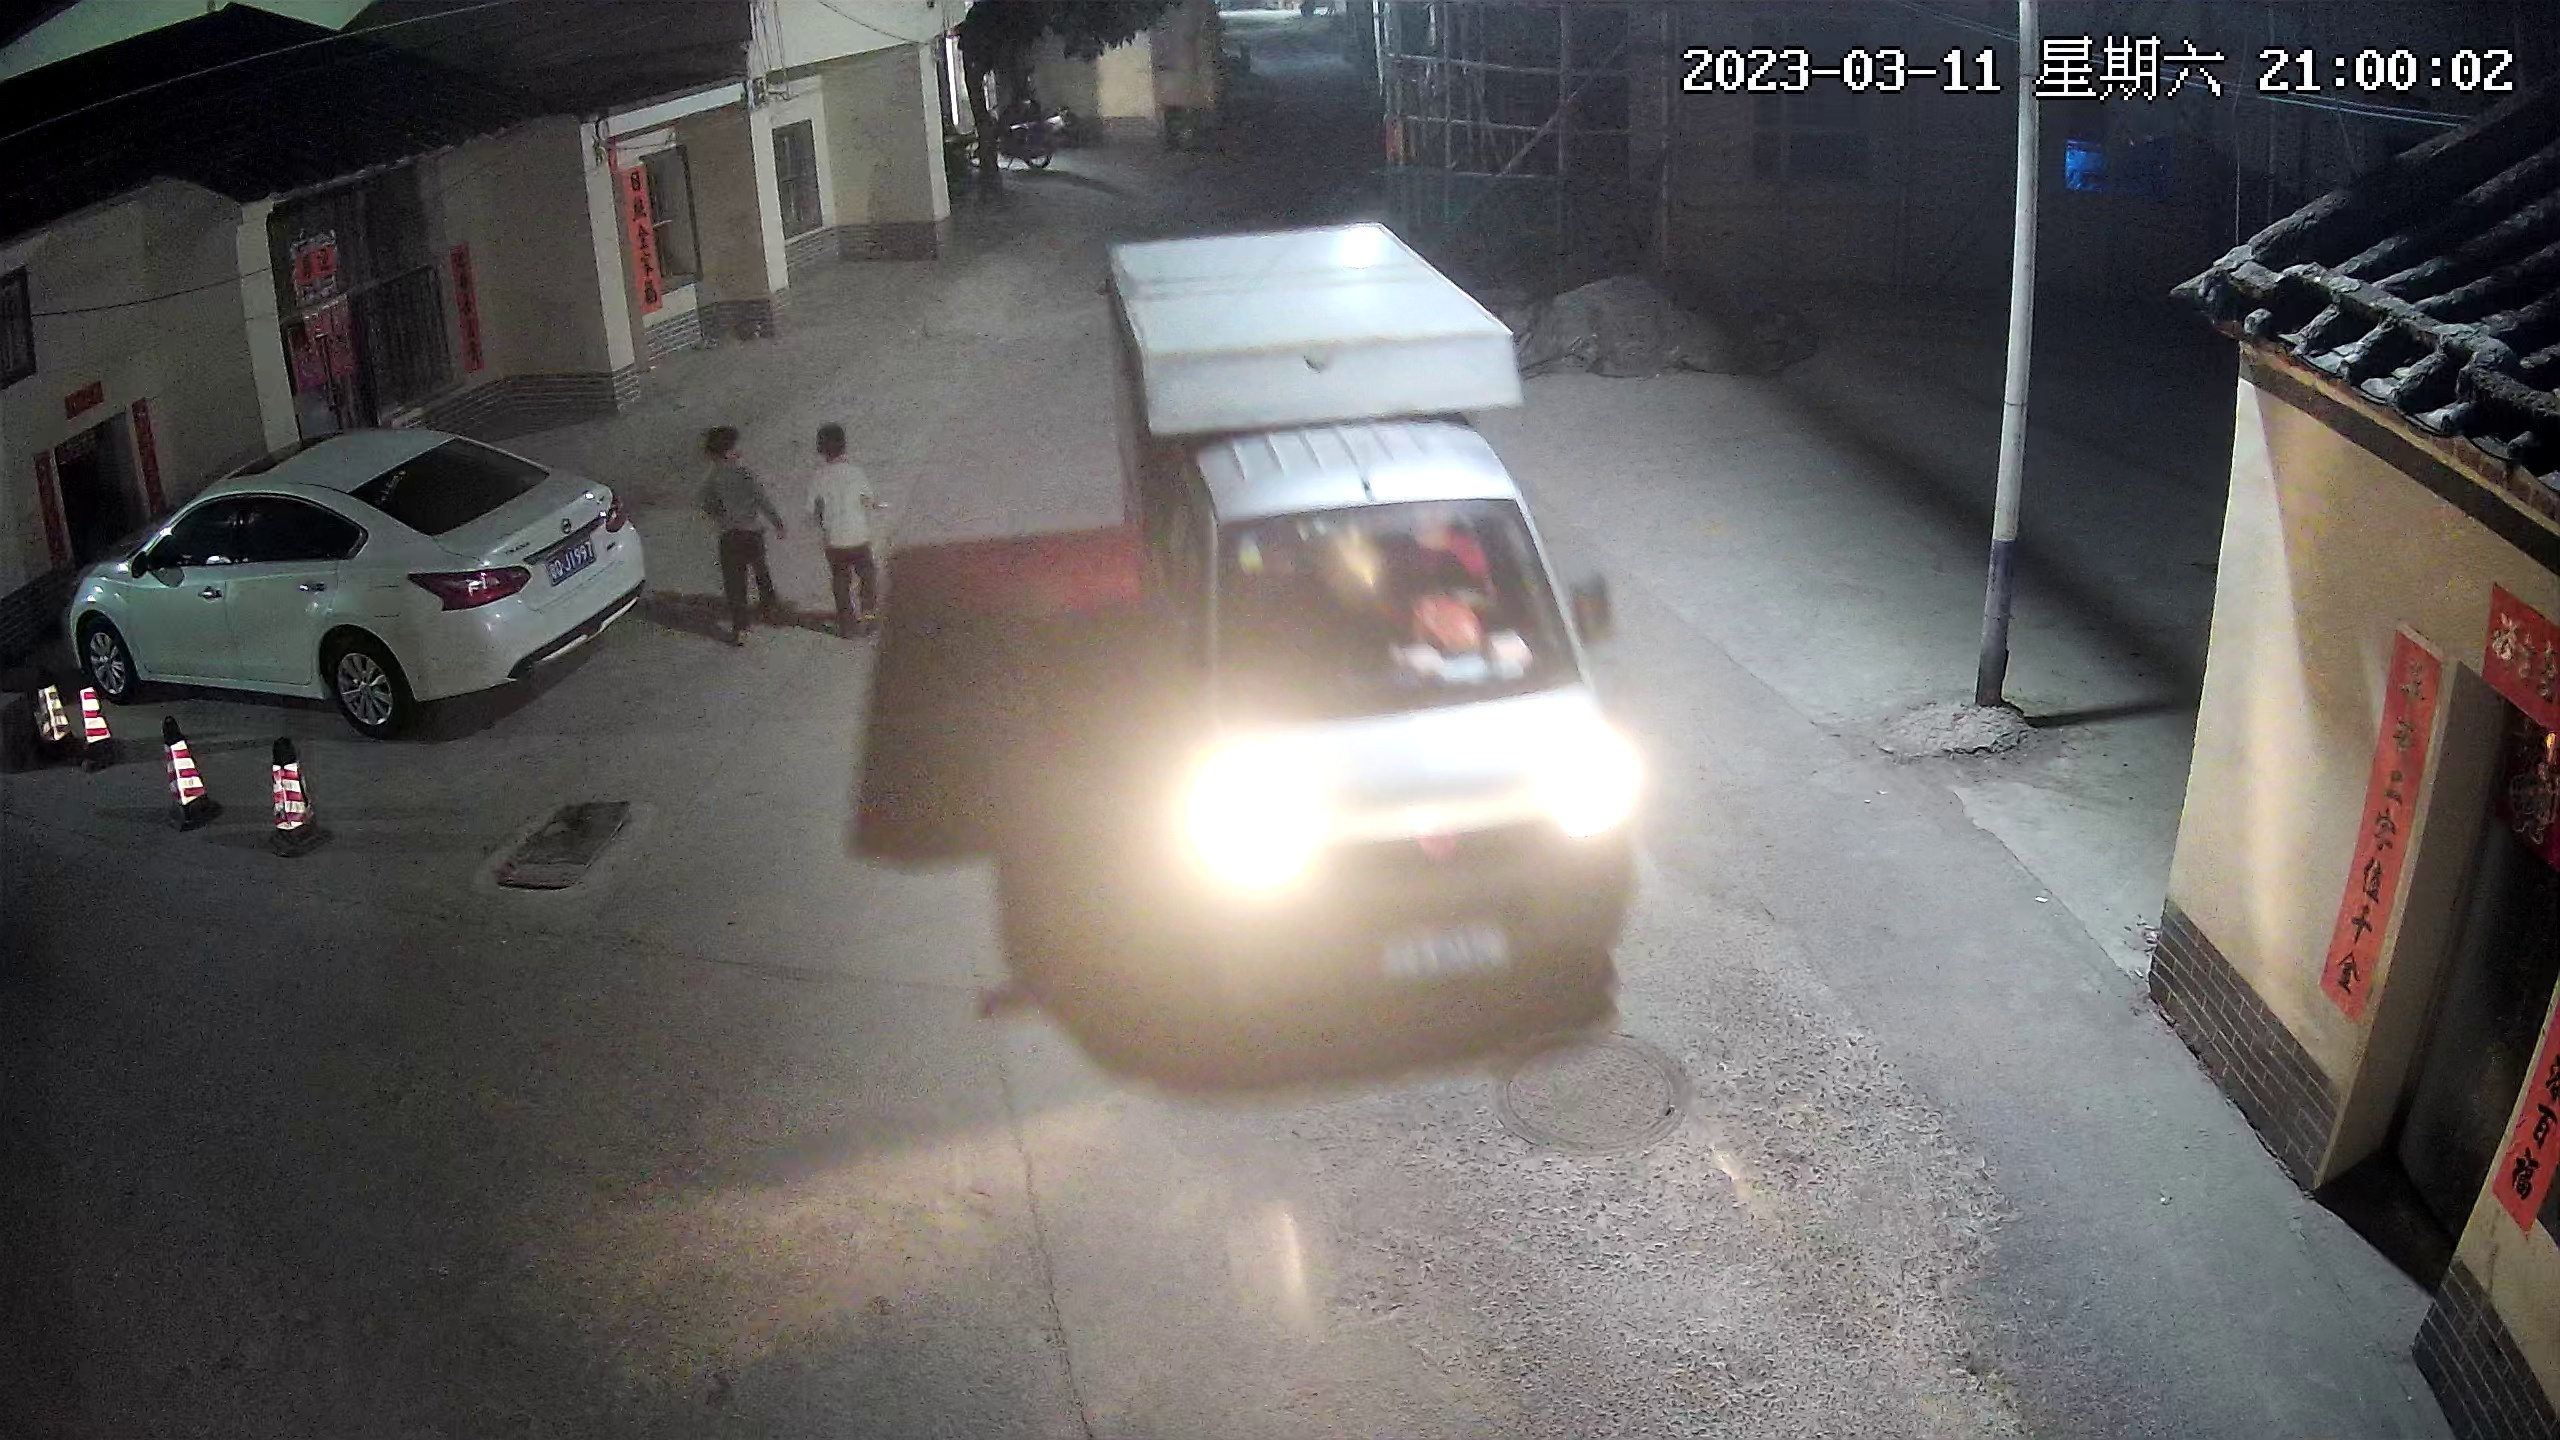person: (797, 418, 903, 650), (690, 422, 789, 659)
sedan: (57, 435, 642, 720)
truck: (1100, 244, 1629, 1023)
